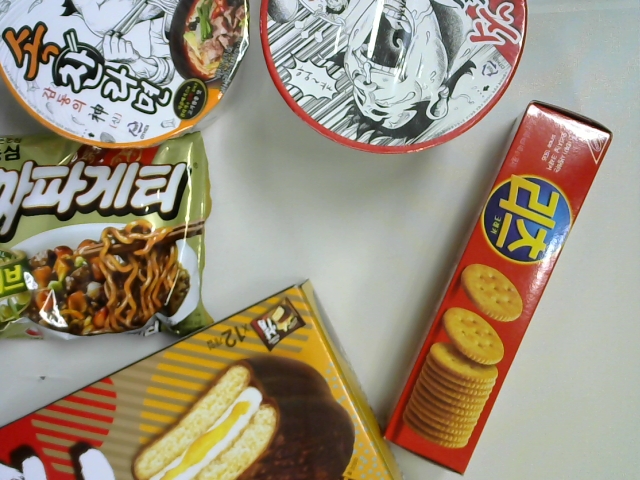Choco_Pie_Banana: (2, 268, 412, 480)
Hejangchan: (1, 1, 258, 152)
Hejangpul: (253, 1, 529, 155)
Olive_Chapaghetti: (1, 126, 219, 337)
Ritz_Cracker: (378, 98, 617, 475)
